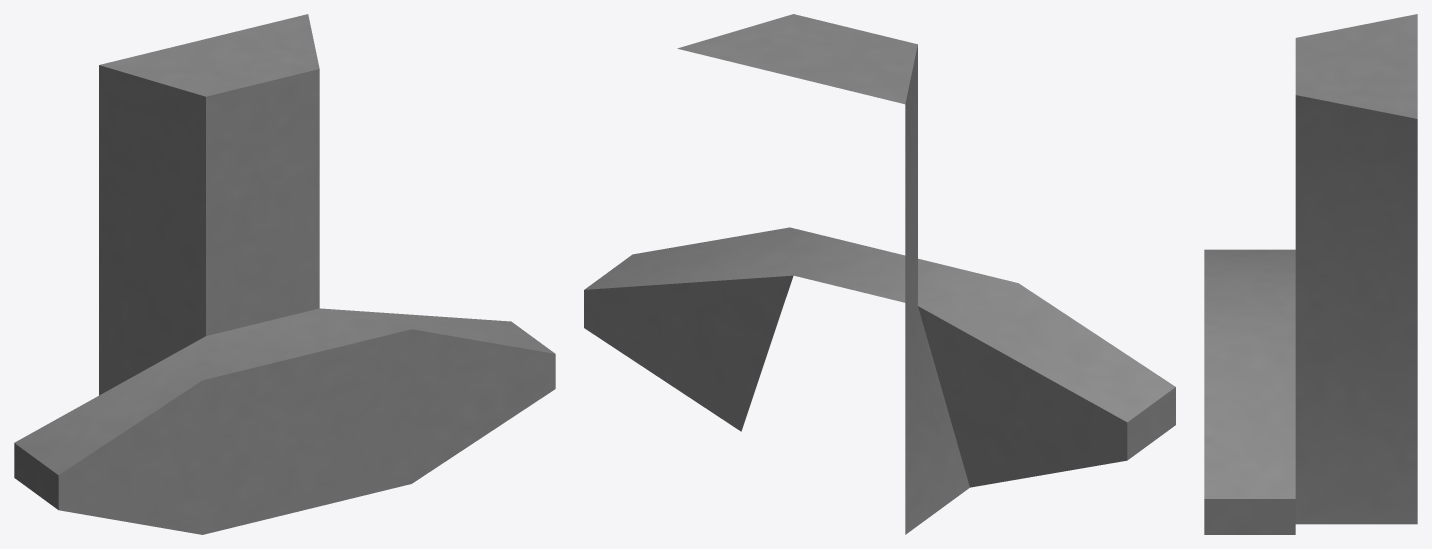
The model's file is cosita-strength.glb.
3 renders of one model, left to right at view 1: azimuth 30°, elevation 25°; view 2: azimuth 150°, elevation 25°; view 3: azimuth 270°, elevation 25°, orthographic. The views are drawn at different scales.
Visible parts, largest first — view 1: strength_low.001; view 2: strength_low.001; view 3: strength_low.001.
Boxes of the visible parts, x1,y1,x2,y2 form: strength_low.001: (14,14,555,534); strength_low.001: (584,14,1175,534); strength_low.001: (1204,14,1417,534).
Bounding box in the file's own units: 18.95 × 14.35 × 6.84.
1 material, 1 textured.
